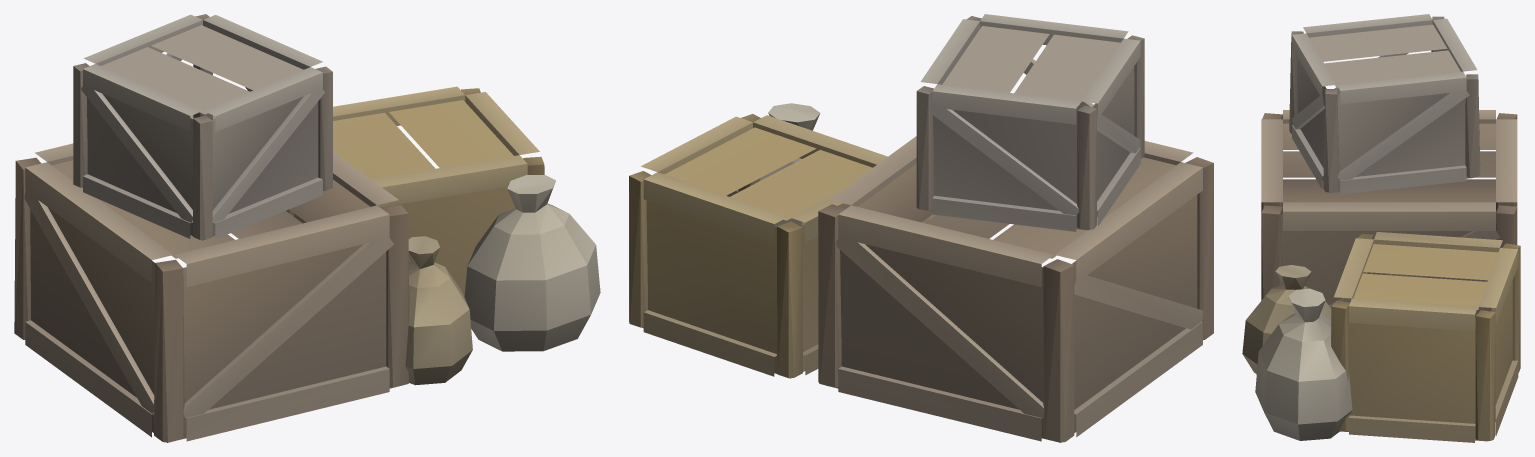
3 views of the same model, side by side, from view 1: azimuth 30°, elevation 25°; view 2: azimuth 150°, elevation 25°; view 3: azimuth 270°, elevation 25° (orthographic). The views are drawn at different scales.
Bounding box in the file's own units: 1.94 × 1.22 × 1.22.
